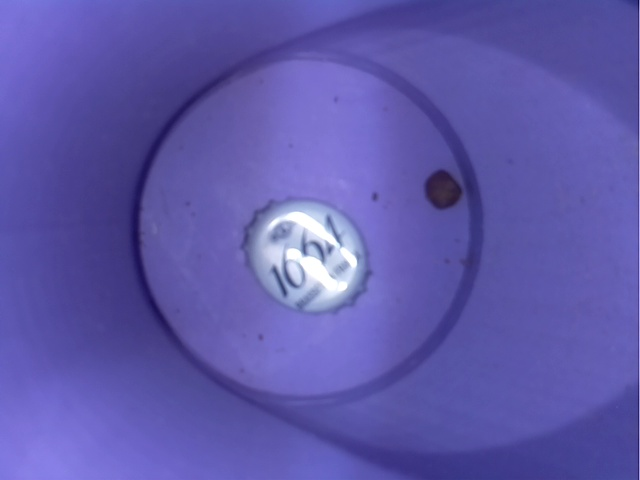caillou: (409, 154, 471, 209)
capsule: (228, 184, 377, 328)
